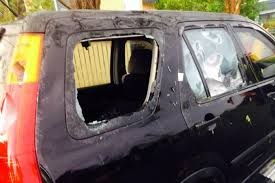Broken-glass: (72, 34, 161, 128), (179, 26, 251, 99)
Dent: (221, 97, 239, 126)
